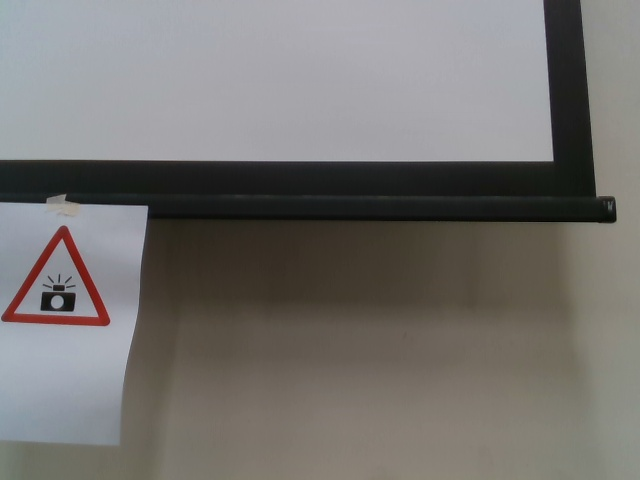camera: (2, 224, 112, 331)
